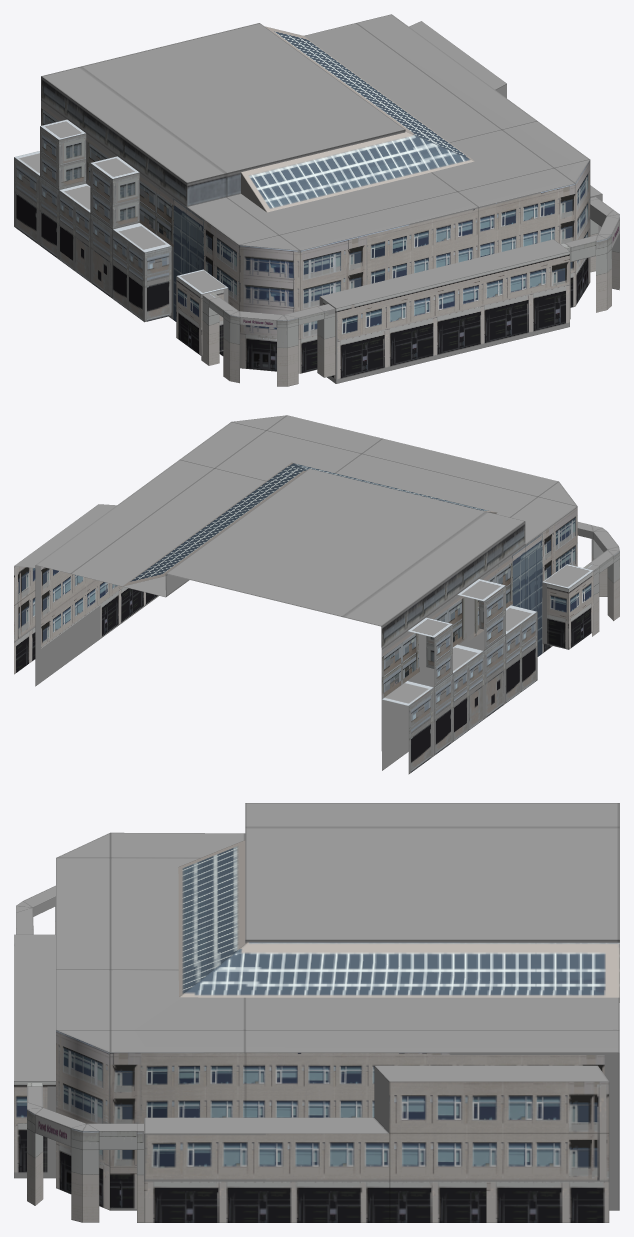
Rendered from forestry.obj.
3 views of the same model, one above another, from view 1: azimuth 30°, elevation 25°; view 2: azimuth 150°, elevation 25°; view 3: azimuth 270°, elevation 25° (orthographic). The views are drawn at different scales.
Parts seen in each view (by area): view 1: Forestry_4_Mesh.001; view 2: Forestry_4_Mesh.001; view 3: Forestry_4_Mesh.001.
Part boxes in pixels (x1,y1,x2,y2): Forestry_4_Mesh.001: [14, 14, 619, 386]; Forestry_4_Mesh.001: [14, 415, 619, 774]; Forestry_4_Mesh.001: [14, 803, 619, 1222].
Size of the model in its own units: 0.0487 by 0.0172 by 0.0493.
Materials: 1 (1 with a texture image).
